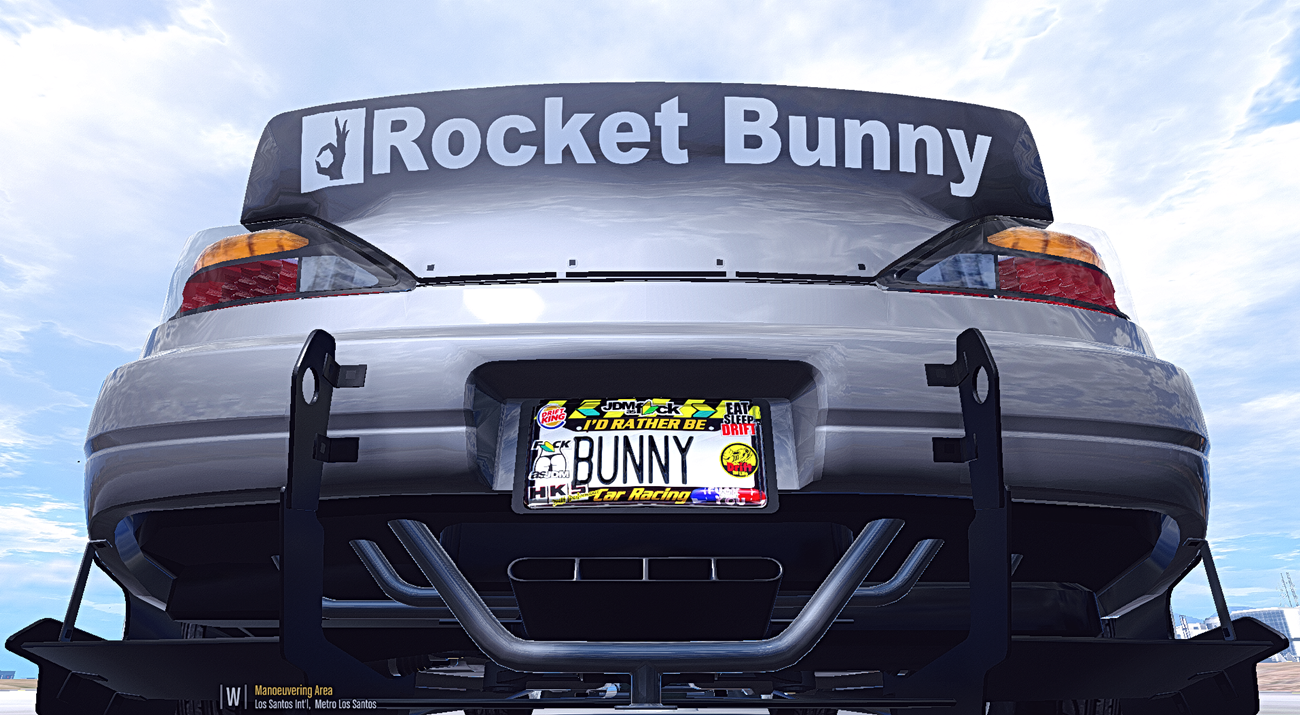license plate: (525, 392, 777, 509)
